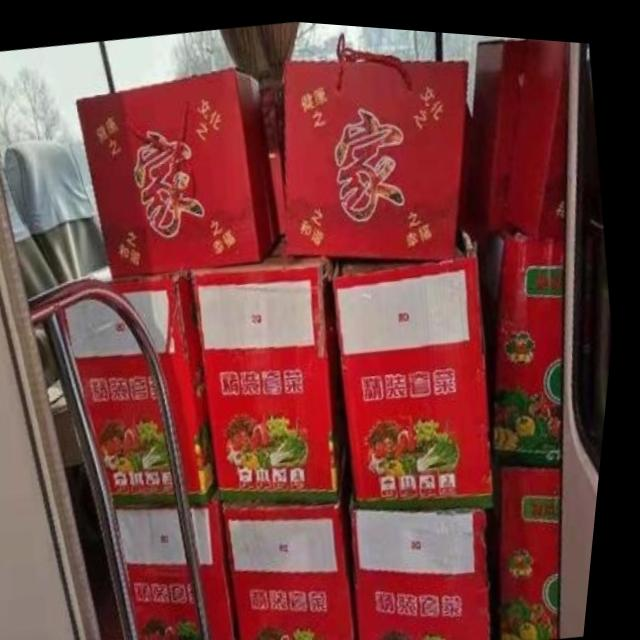box: (333, 219, 499, 497), (192, 228, 356, 496), (80, 65, 284, 274), (62, 260, 227, 505), (289, 52, 469, 253), (470, 206, 567, 457), (359, 492, 503, 640), (230, 493, 369, 640), (125, 480, 251, 640), (495, 456, 571, 634), (508, 31, 568, 236), (471, 31, 529, 227), (261, 83, 291, 232)
